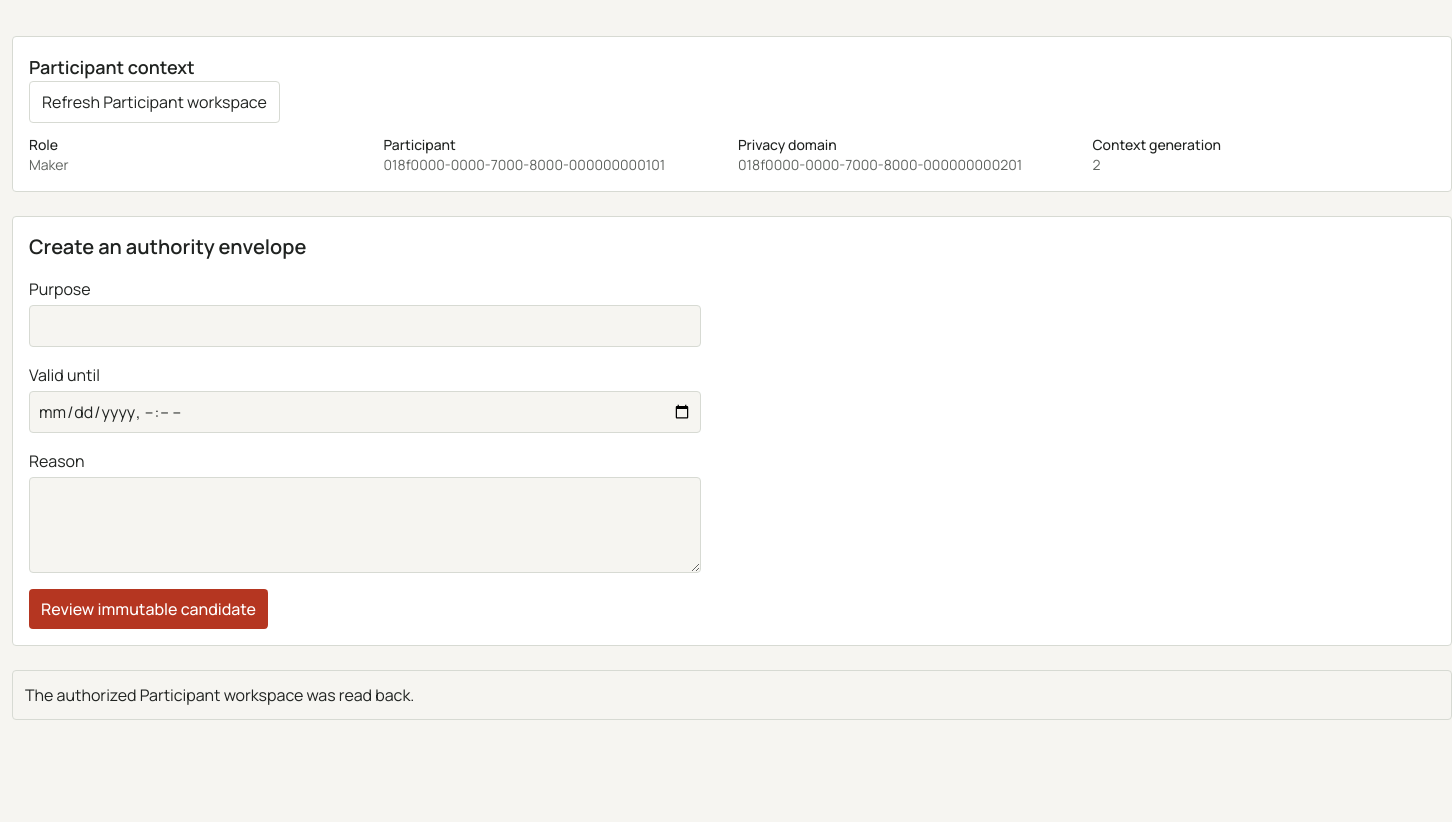
Test: masks old data and safely renders a http read failure
The image size is (1452, 822).
Expected: the heading "Participant context" is shown, [29, 55, 195, 79]
Click the button "Refresh Participant workspace" at [154, 102], box [29, 81, 280, 123]
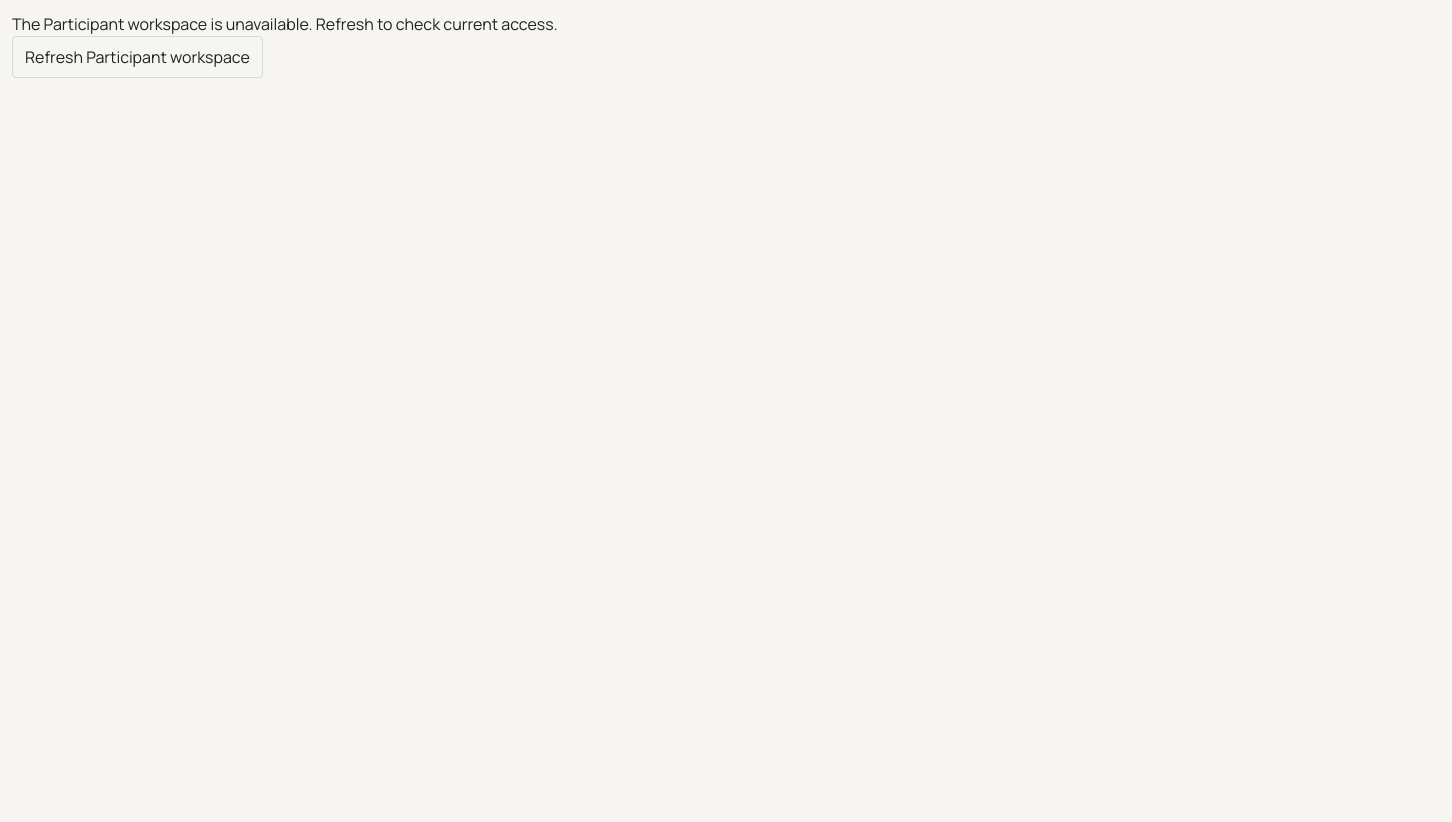
Expected: the message shows "The Participant workspace is unavailable.", [12, 13, 558, 35]
Expected: the heading "Participant context" is gone
